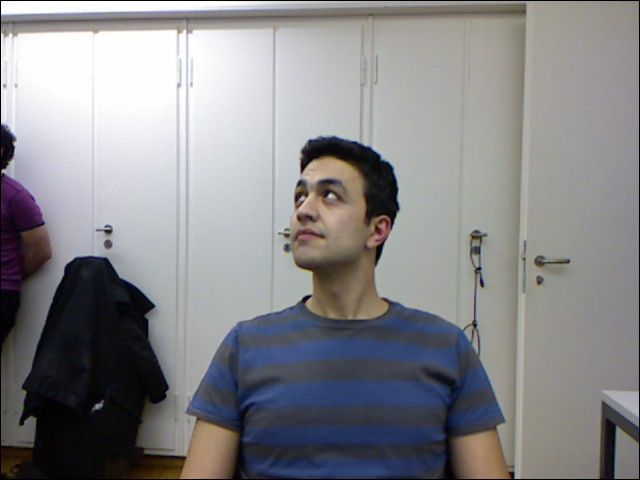deflection: (196, 133, 496, 428)
